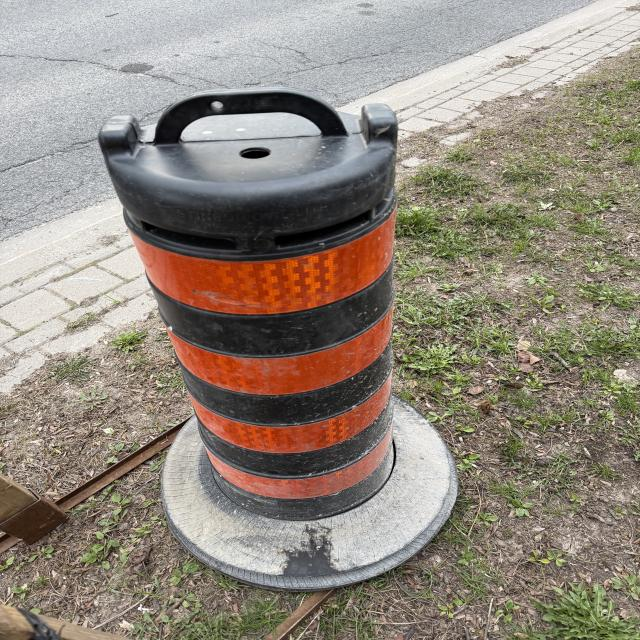Teraffic Barrel: (100, 89, 455, 590)
